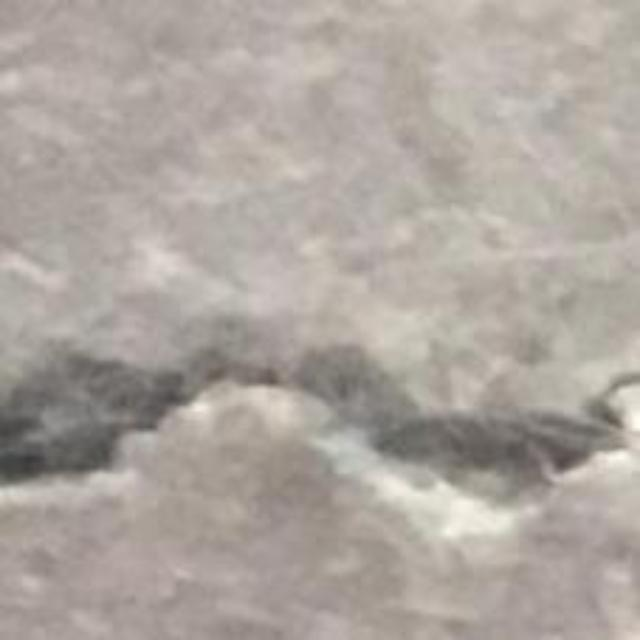crack: (0, 316, 631, 499)
